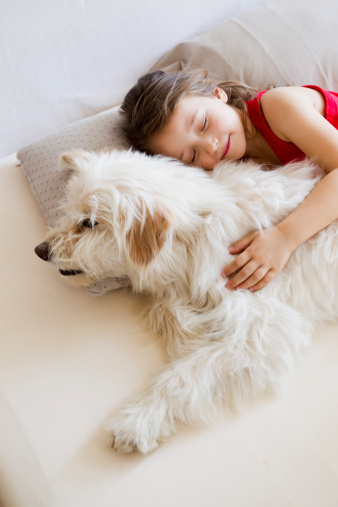deitado: (94, 37, 338, 328)
